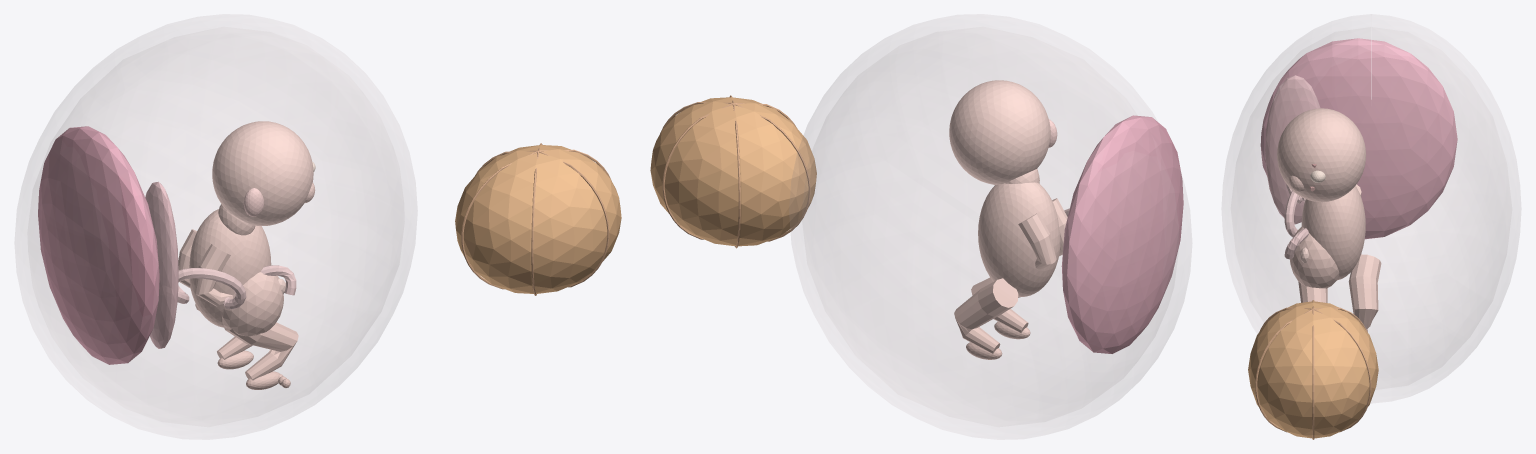
The model's file is hafta_29.glb.
The picture shows the model from 3 angles, left to right: view 1: azimuth 30°, elevation 25°; view 2: azimuth 150°, elevation 25°; view 3: azimuth 270°, elevation 25°; orthographic projection. The views are drawn at different scales.
Parts seen in each view (by area): view 1: Gebelik_kesesi_dis_zar_26, Plasenta_gelisen_doku_28, Meyve_Bal kabağı_30, Bas_1, Gogus_govde_2, Plasenta_yumusak_yuzey_29, Gobel_ve_karin_3, Bacak_on_18, Gobek_kordonu_ogretici_24, Kol_on_11; view 2: Gebelik_kesesi_dis_zar_26, Plasenta_gelisen_doku_28, Meyve_Bal kabağı_30, Bas_1, Gogus_govde_2, Bacak_arka_16, Kol_on_arka_9, Bacak_on_18; view 3: Gebelik_kesesi_dis_zar_26, Plasenta_gelisen_doku_28, Meyve_Bal kabağı_30, Bas_1, Gogus_govde_2, Plasenta_yumusak_yuzey_29, Bacak_arka_16, Gobel_ve_karin_3, Gobek_kordonu_ogretici_24, Bacak_on_18, Meyve_desen_cizgisi_31, Meyve_desen_cizgisi_32 (+1 smaller).
Part boxes in pixels (x1,y1,x2,y2): Gebelik_kesesi_dis_zar_26: [15, 14, 417, 439]; Plasenta_gelisen_doku_28: [38, 126, 159, 364]; Meyve_Bal kabağı_30: [455, 145, 621, 293]; Bas_1: [212, 121, 313, 225]; Gogus_govde_2: [189, 209, 271, 327]; Plasenta_yumusak_yuzey_29: [145, 181, 178, 348]; Gobel_ve_karin_3: [222, 272, 283, 336]; Bacak_on_18: [223, 322, 298, 380]; Gobek_kordonu_ogretici_24: [177, 265, 296, 309]; Kol_on_11: [194, 244, 232, 306]; Gebelik_kesesi_dis_zar_26: [789, 14, 1191, 439]; Plasenta_gelisen_doku_28: [1061, 115, 1183, 353]; Meyve_Bal kabağı_30: [650, 97, 816, 246]; Bas_1: [949, 80, 1050, 184]; Gogus_govde_2: [978, 182, 1060, 296]; Bacak_arka_16: [954, 278, 1018, 353]; Kol_on_arka_9: [1018, 213, 1056, 269]; Bacak_on_18: [971, 277, 1028, 333]; Gebelik_kesesi_dis_zar_26: [1222, 14, 1520, 403]; Plasenta_gelisen_doku_28: [1260, 38, 1457, 239]; Meyve_Bal kabağı_30: [1248, 301, 1378, 438]; Bas_1: [1277, 108, 1366, 202]; Gogus_govde_2: [1301, 186, 1365, 280]; Plasenta_yumusak_yuzey_29: [1265, 75, 1320, 224]; Bacak_arka_16: [1348, 254, 1381, 329]; Gobel_ve_karin_3: [1290, 226, 1339, 288]; Gobek_kordonu_ogretici_24: [1284, 184, 1308, 259]; Bacak_on_18: [1298, 281, 1327, 302]; Meyve_desen_cizgisi_31: [1312, 309, 1314, 439]; Meyve_desen_cizgisi_32: [1255, 308, 1312, 432].
Size of the model in its own units: 11.7 by 8.1 by 6.2.
